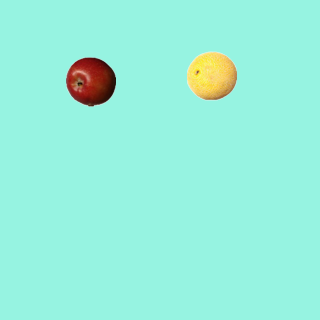Apple Braeburn: (65, 56, 115, 106)
Cantaloupe 1: (186, 50, 236, 100)
